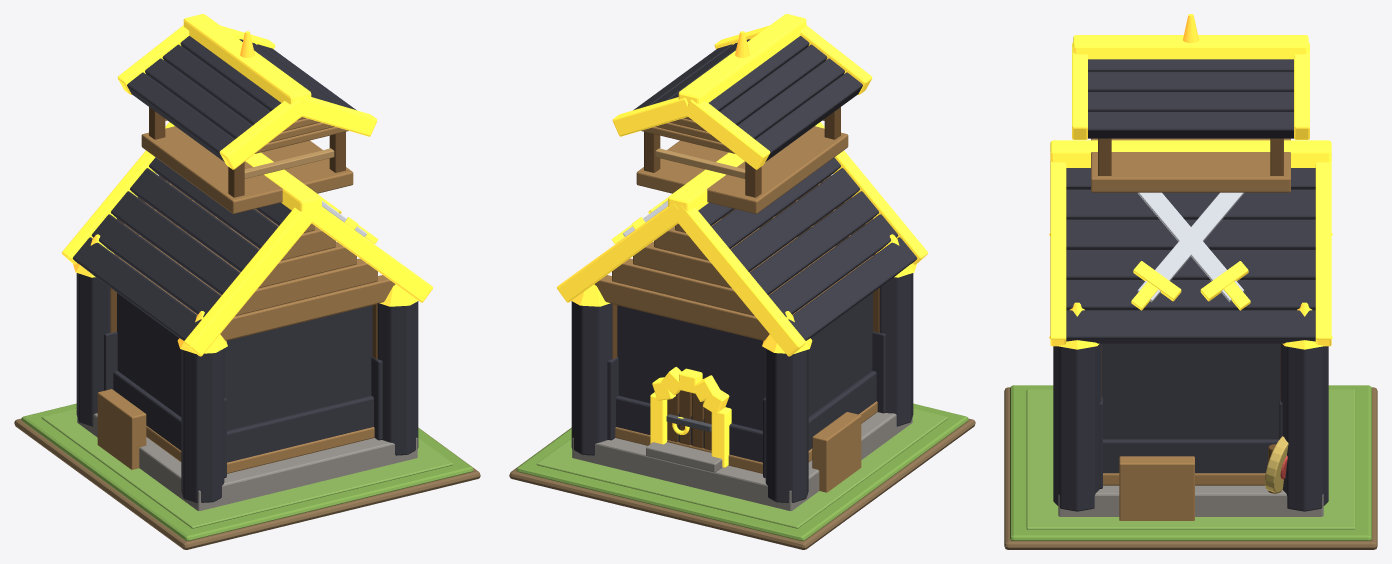
File: barracks_lv9.glb
3 renders of one model, left to right at view 1: azimuth 30°, elevation 25°; view 2: azimuth 150°, elevation 25°; view 3: azimuth 270°, elevation 25°, orthographic. The views are drawn at different scales.
Parts seen in each view (by area): view 1: PlasterCore, Base_Inner, Foundation, Base_Grass, RoofPlatform, BarracksStoneWainscot, BR_Bastion_-1_-1, BR_Bastion_1_-1, Base_Dirt, Bargeboard_-1_-1, BR_Bastion_-1_1, RoofSlope_-1_2 (+28 smaller); view 2: PlasterCore, Base_Inner, Base_Grass, RoofPlatform, Foundation, BR_Bastion_-1_1, BR_Bastion_1_1, Base_Dirt, BR_Bastion_-1_-1, Bargeboard_1_-1, BarracksStoneWainscot, RoofSlope_-1_2 (+31 smaller); view 3: PlasterCore, Base_Inner, Base_Grass, RoofSlope_1_5, RoofPlatform, BR_Bastion_1_-1, BR_Bastion_1_1, RoofSlope_1_2, RoofSlope_1_4, RoofSlope_1_1, RoofSlope_1_3.001, RidgeBeam.001 (+22 smaller).
Part boxes in pixels (x1=…): PlasterCore: x1=117, y1=293, x2=372, y2=430; Base_Inner: x1=41, y1=408, x2=453, y2=528; Foundation: x1=77, y1=413, x2=417, y2=510; Base_Grass: x1=21, y1=403, x2=473, y2=540; RoofPlatform: x1=141, y1=126, x2=353, y2=213; BarracksStoneWainscot: x1=113, y1=371, x2=373, y2=462; BR_Bastion_-1_-1: x1=181, y1=348, x2=224, y2=502; BR_Bastion_1_-1: x1=377, y1=301, x2=418, y2=455; Base_Dirt: x1=14, y1=418, x2=480, y2=549; Bargeboard_-1_-1: x1=184, y1=205, x2=317, y2=356; BR_Bastion_-1_1: x1=76, y1=273, x2=110, y2=426; RoofSlope_-1_2: x1=130, y1=168, x2=259, y2=271; PlasterCore: x1=617, y1=293, x2=872, y2=430; Base_Inner: x1=536, y1=408, x2=948, y2=528; Base_Grass: x1=516, y1=403, x2=968, y2=540; RoofPlatform: x1=636, y1=126, x2=848, y2=213; Foundation: x1=572, y1=412, x2=912, y2=510; BR_Bastion_-1_1: x1=765, y1=348, x2=808, y2=502; BR_Bastion_1_1: x1=571, y1=301, x2=612, y2=455; Base_Dirt: x1=509, y1=418, x2=975, y2=549; BR_Bastion_-1_-1: x1=879, y1=273, x2=913, y2=426; Bargeboard_1_-1: x1=673, y1=205, x2=805, y2=356; BarracksStoneWainscot: x1=616, y1=371, x2=876, y2=462; RoofSlope_-1_2: x1=730, y1=168, x2=859, y2=271; PlasterCore: x1=1101, y1=343, x2=1280, y2=439; Base_Inner: x1=1026, y1=389, x2=1355, y2=529; Base_Grass: x1=1010, y1=385, x2=1371, y2=540; RoofSlope_1_5: x1=1066, y1=310, x2=1315, y2=343; RoofPlatform: x1=1091, y1=138, x2=1290, y2=192; BR_Bastion_1_-1: x1=1053, y1=343, x2=1101, y2=511; BR_Bastion_1_1: x1=1280, y1=343, x2=1328, y2=511; RoofSlope_1_2: x1=1066, y1=219, x2=1315, y2=249; RoofSlope_1_4: x1=1066, y1=280, x2=1315, y2=310; RoofSlope_1_1: x1=1066, y1=189, x2=1315, y2=219; RoofSlope_1_3.001: x1=1088, y1=111, x2=1293, y2=138; RidgeBeam.001: x1=1073, y1=35, x2=1308, y2=59.
Size of the model in its own units: 2.76 by 3.73 by 2.76.
